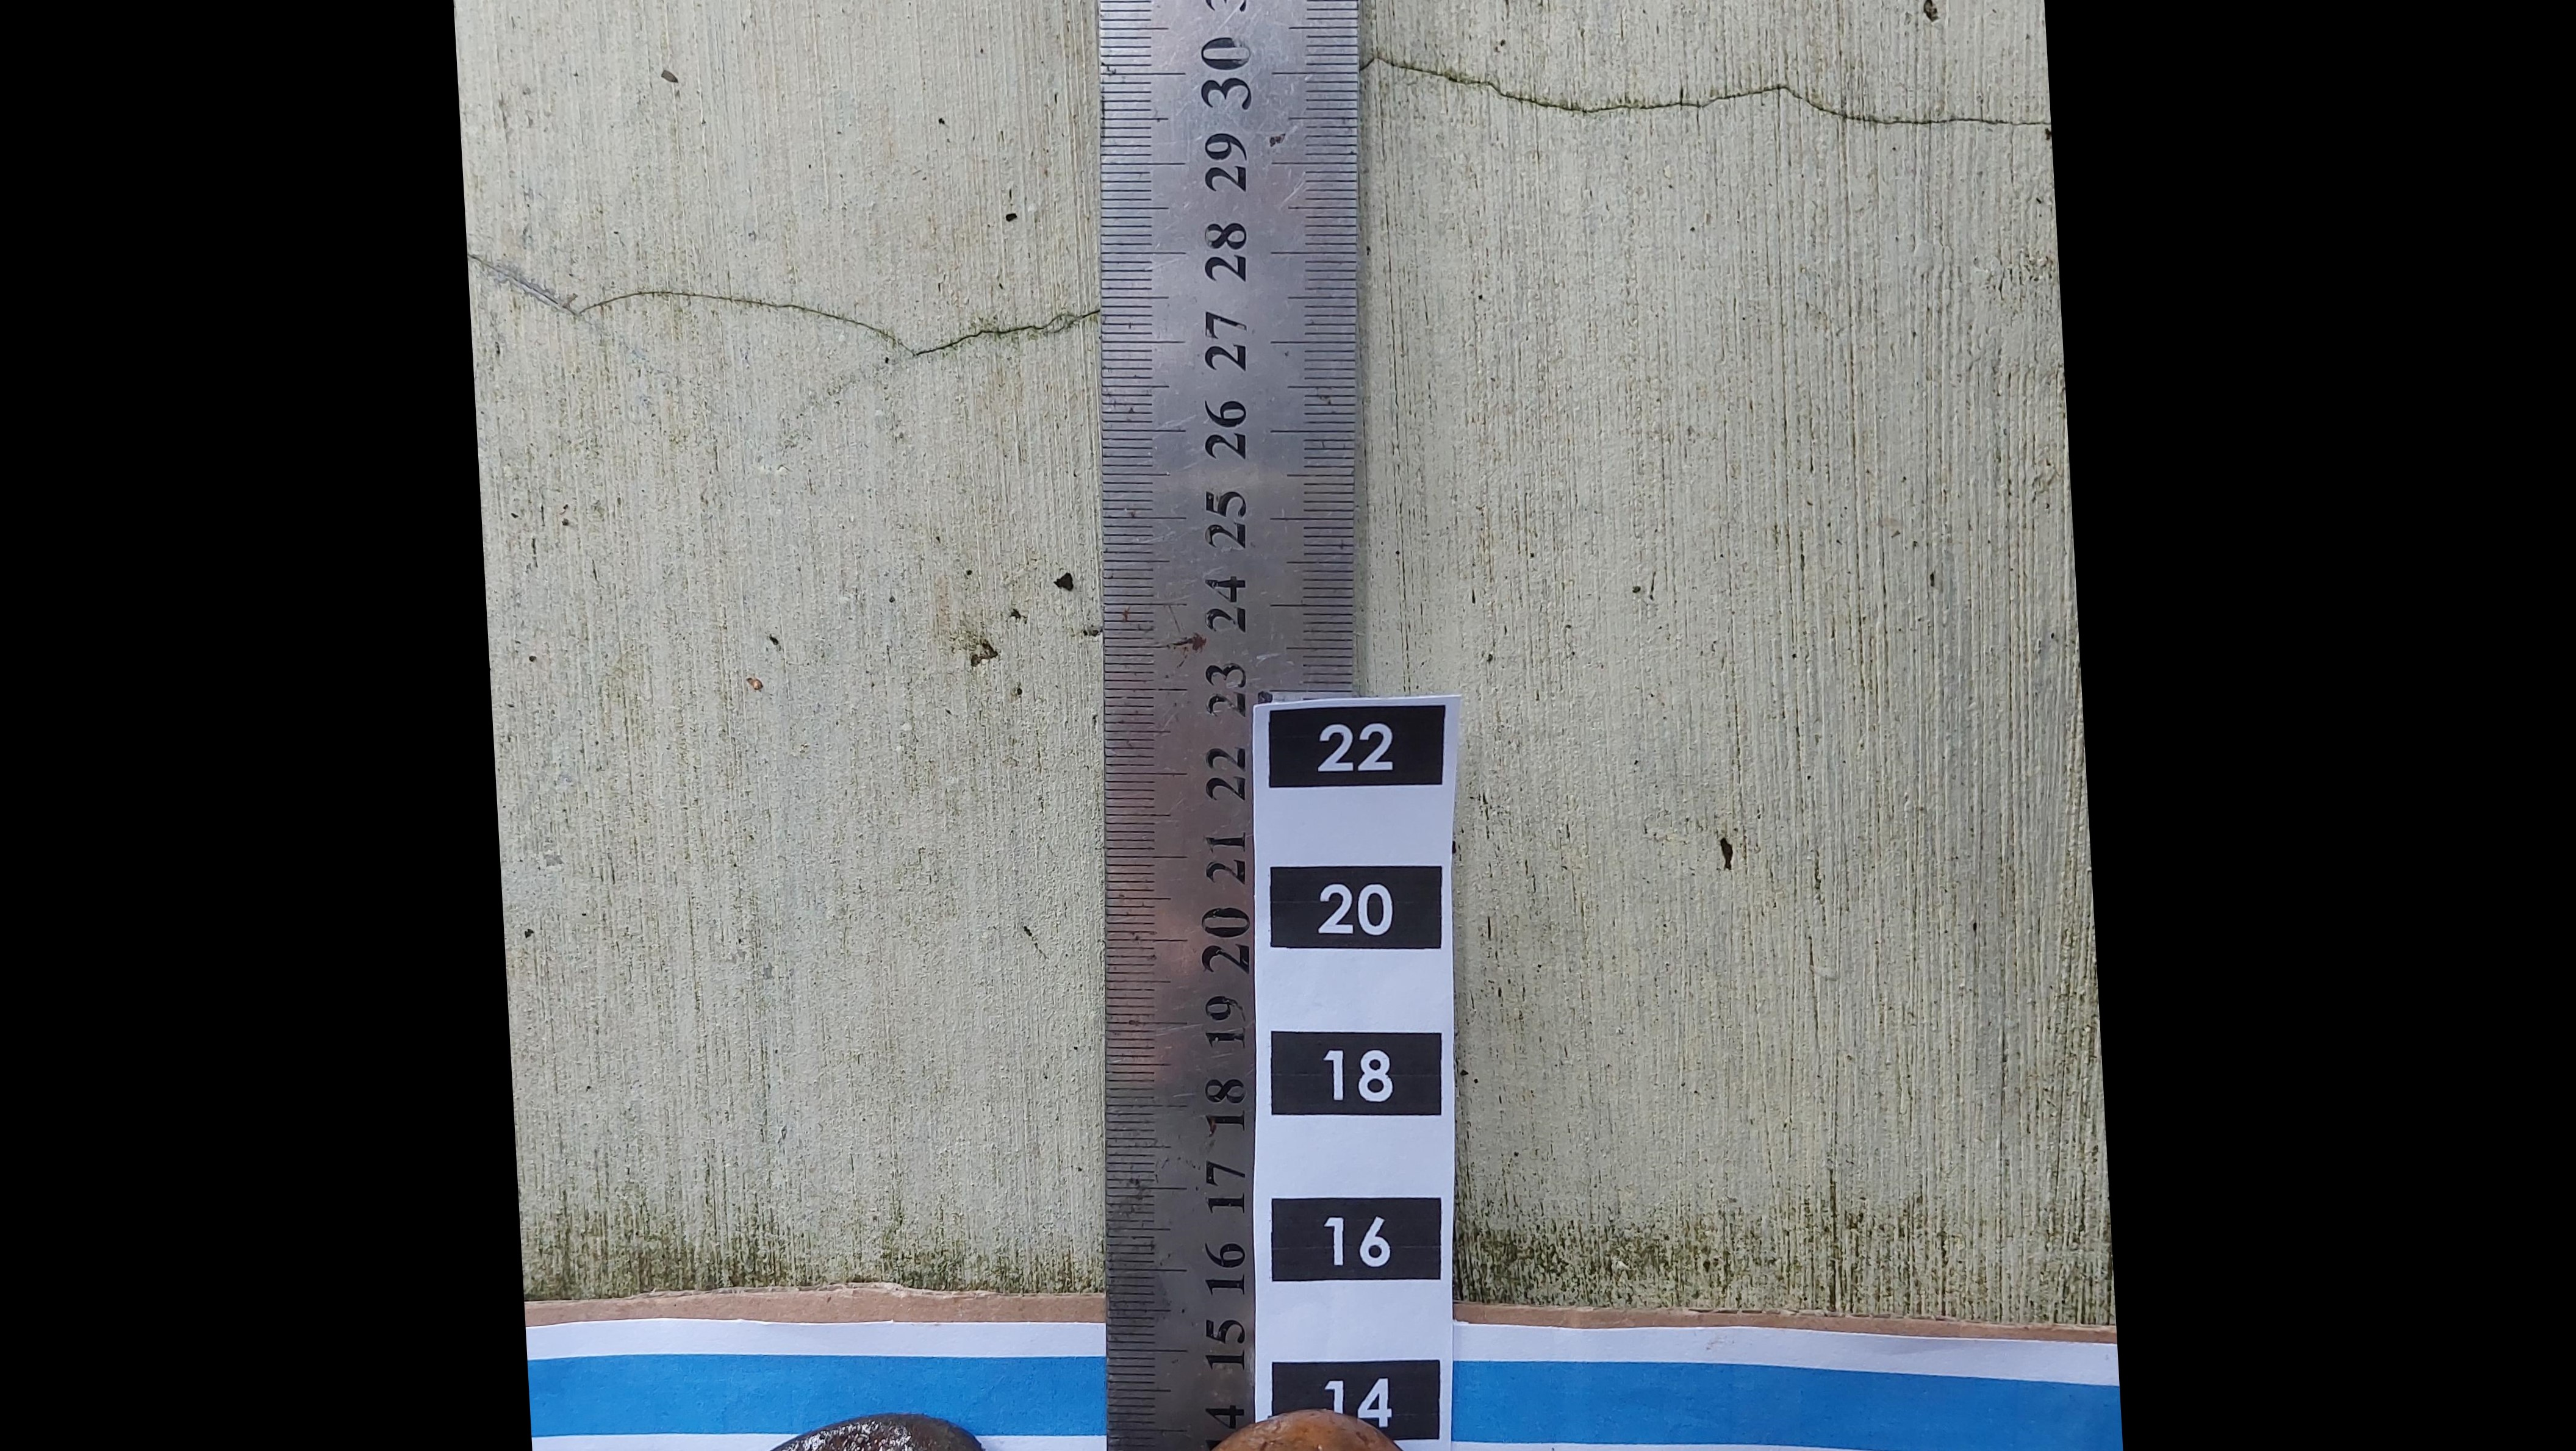kotak_2x1: (1267, 1030, 1440, 1117), (1269, 865, 1438, 948), (1269, 704, 1440, 786), (1270, 1198, 1442, 1279)
